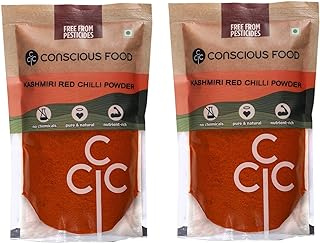Chilli Powder: (1, 4, 154, 240), (168, 3, 320, 238)
